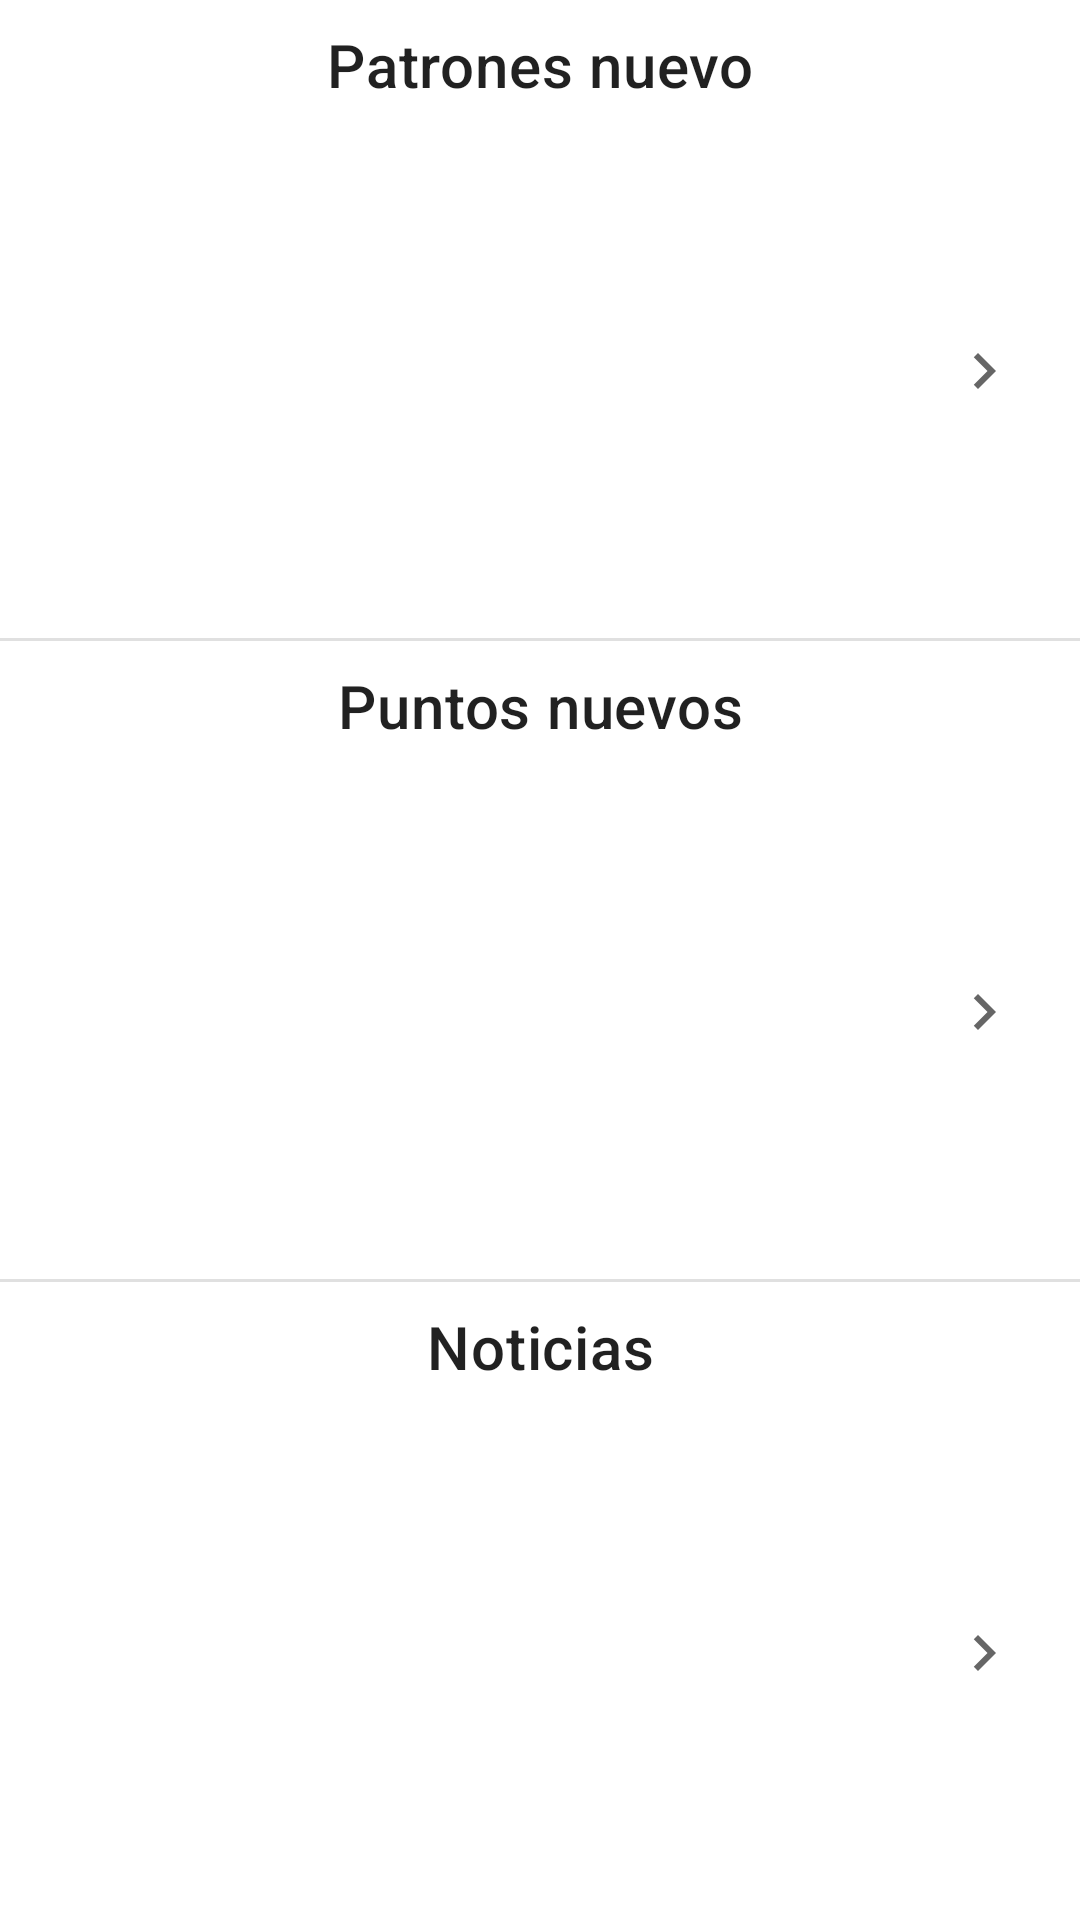

Icon click points for this 1080×1920 phone screenshot, format (x=x, y=y):
Next: (x=985, y=371), (x=985, y=1012), (x=985, y=1653)
